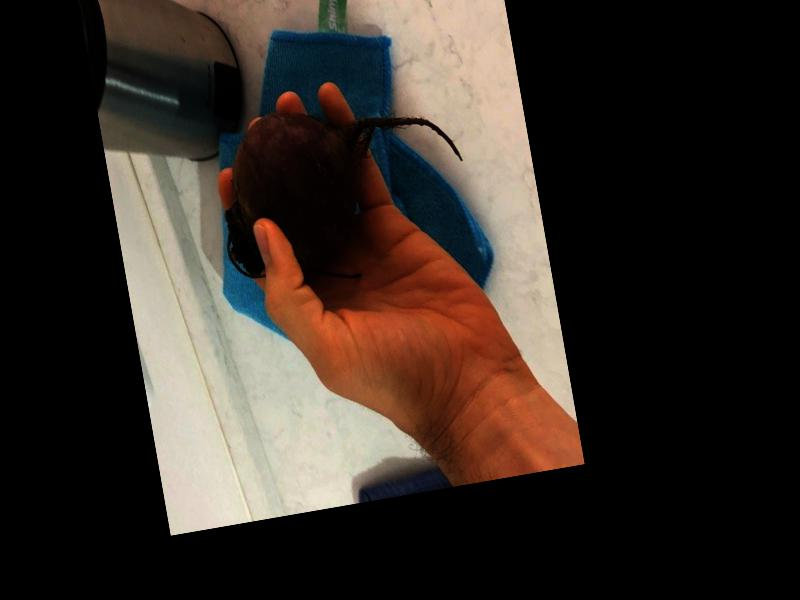Beet: (206, 83, 479, 297)
